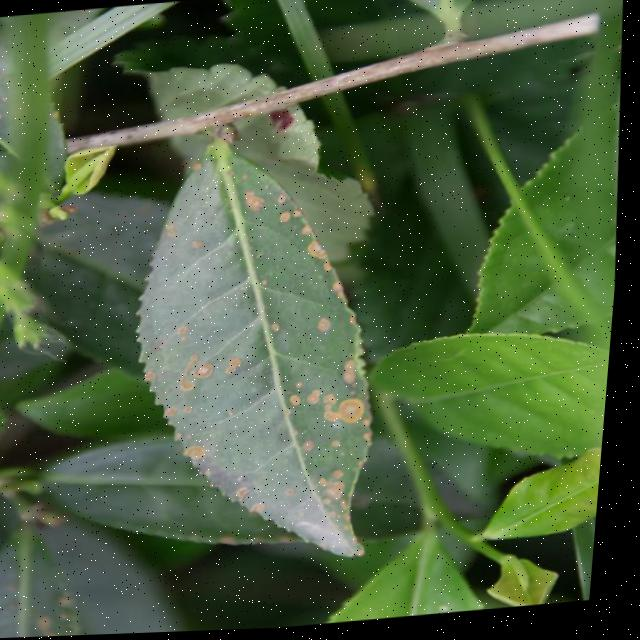Tea algae leaf spot: (139, 153, 393, 550)
